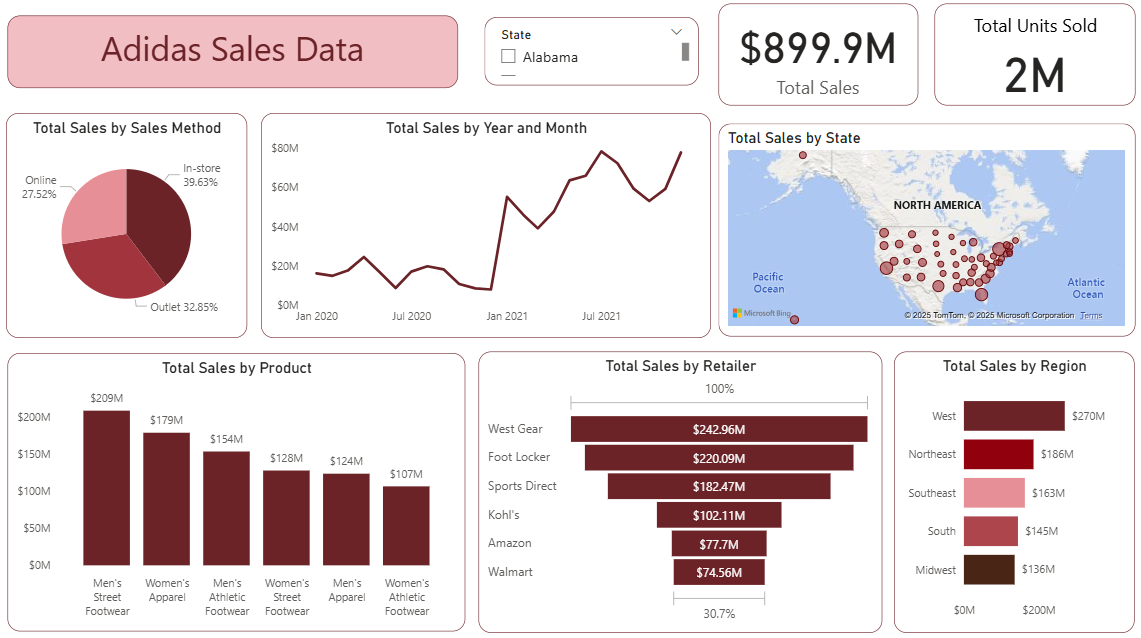

This screenshot's page, from the dashboard's own definition file:
{"tool":"powerbi","page":{"name":"Page 1","canvas":[1280,720],"ordinal":0},"visuals":[{"type":"card","fields":{"Values":["Sum(Data Sales Adidas.Units Sold)"]},"box":[1044.4,8.1,223.5,113.3],"z":0},{"type":"card","fields":{"Values":["Sum(Data Sales Adidas.Total Sales)"]},"box":[804.8,8.1,221.8,113.3],"z":1000},{"type":"columnChart","title":"Total Sales by Product","fields":{"Category":["Data Sales Adidas.Product"],"Y":["Sum(Data Sales Adidas.Total Sales)"]},"box":[14.6,396.7,508.4,309.3],"z":2000},{"type":"lineChart","title":"Total Sales by Year and Month","fields":{"Y":["Sum(Data Sales Adidas.Total Sales)"],"Category":["Data Sales Adidas.Invoice Date.Variation.Date Hierarchy.Year","Data Sales Adidas.Invoice Date.Variation.Date Hierarchy.Month"]},"box":[296,130,500,250],"z":3000},{"type":"pieChart","fields":{"Y":["Sum(Data Sales Adidas.Total Sales)"],"Category":["Data Sales Adidas.Sales Method"]},"box":[14,130,268,250],"z":4000},{"type":"clusteredBarChart","fields":{"Category":["Data Sales Adidas.Region"],"Y":["Sum(Data Sales Adidas.Total Sales)"]},"box":[1000.7,395.1,267.2,312.5],"z":5000},{"type":"textbox","box":[14.6,21,500.3,81],"z":6000},{"type":"funnel","fields":{"Category":["Data Sales Adidas.Retailer"],"Y":["Sum(Data Sales Adidas.Total Sales)"]},"box":[537.6,395.1,448.5,312.5],"z":7000},{"type":"slicer","fields":{"Values":["Data Sales Adidas.State"]},"box":[545.7,22.7,238,76.1],"z":8000},{"type":"map","fields":{"Category":["Data Sales Adidas.State"],"Size":["Sum(Data Sales Adidas.Total Sales)"]},"box":[804.8,142.5,463.1,236.4],"z":9000}]}

Visuals, with their boxes in screenshot pixels (x1, y1, x2, y2), scaled from the page's 1280x720 canvas onto the 1141x638 screenshot:
card - Sum(Data Sales Adidas.Units Sold): l=931, t=7, r=1130, b=108
card - Sum(Data Sales Adidas.Total Sales): l=717, t=7, r=915, b=108
"Total Sales by Product" columnChart: l=13, t=352, r=466, b=626
"Total Sales by Year and Month" lineChart: l=264, t=115, r=710, b=337
pieChart - Sum(Data Sales Adidas.Total Sales) x Data Sales Adidas.Sales Method: l=12, t=115, r=251, b=337
clusteredBarChart - Data Sales Adidas.Region x Sum(Data Sales Adidas.Total Sales): l=892, t=350, r=1130, b=627
textbox: l=13, t=19, r=459, b=90
funnel - Data Sales Adidas.Retailer x Sum(Data Sales Adidas.Total Sales): l=479, t=350, r=879, b=627
slicer - Data Sales Adidas.State: l=486, t=20, r=699, b=88
map - Data Sales Adidas.State x Sum(Data Sales Adidas.Total Sales): l=717, t=126, r=1130, b=336
